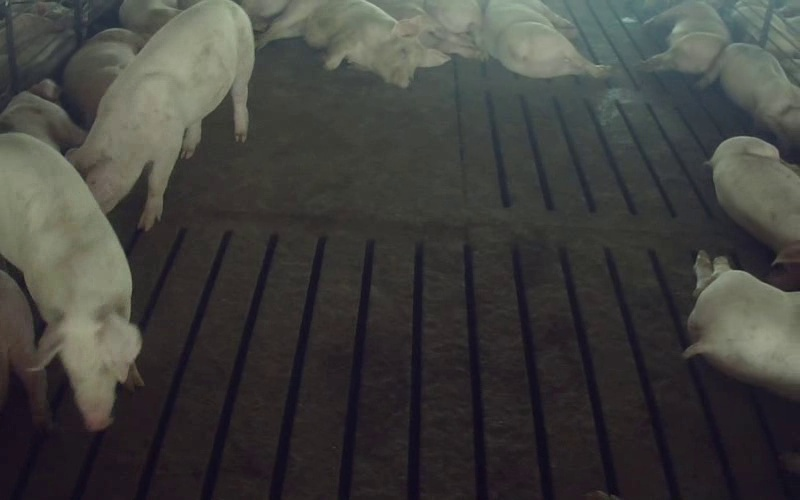pig: (67, 0, 253, 229), (684, 251, 799, 399), (257, 0, 449, 87), (710, 136, 799, 265), (698, 43, 799, 148), (481, 0, 608, 77), (63, 28, 144, 128), (642, 2, 730, 74)
